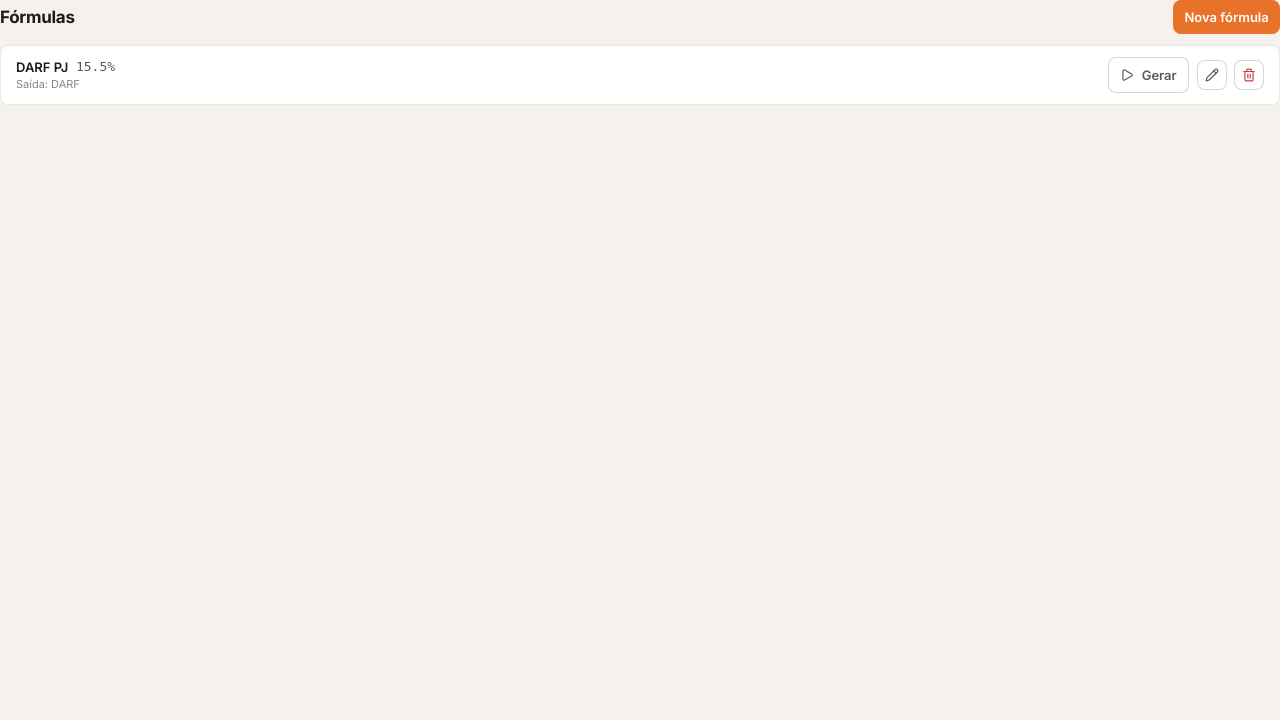
Test: FinanceFormulaSection › opens and closes the generation preview modal
This screenshot has width=1280, height=720.
Click the button "Gerar": (1148, 75) [1108, 57, 1189, 93]
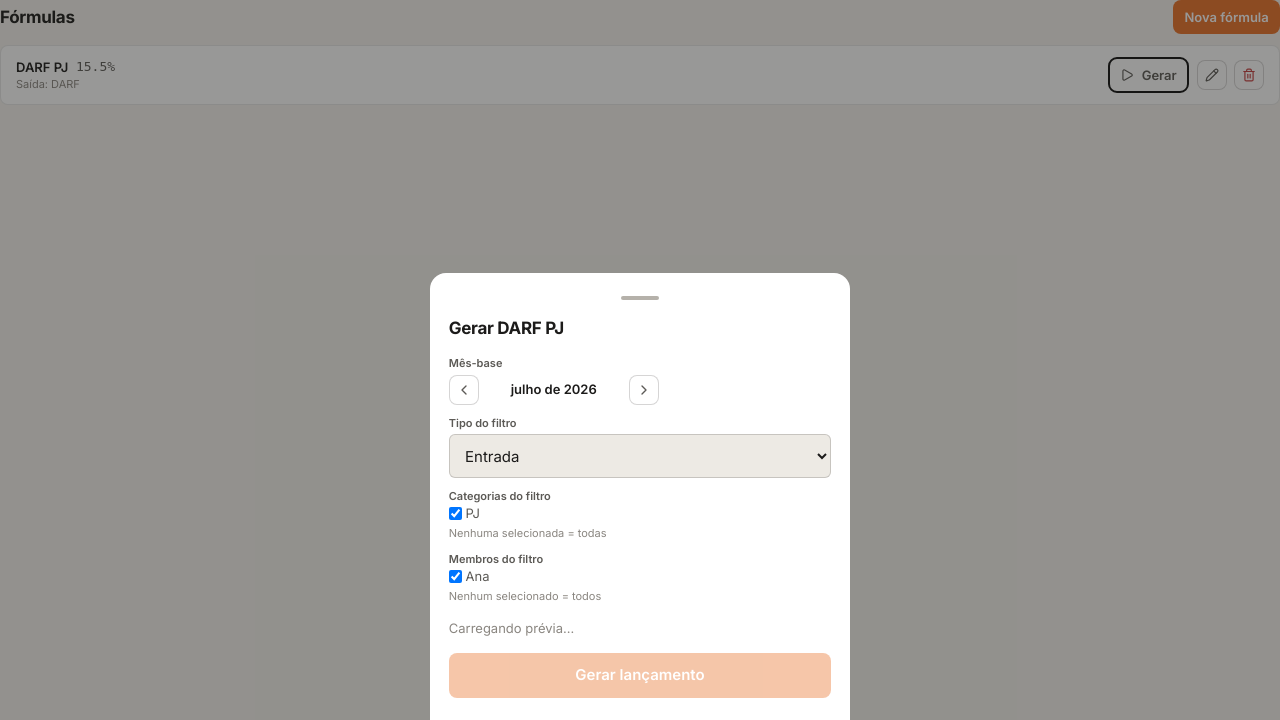
Click the element that starts with "Gerar DARF PJ": (77, 360) [0, 0, 1279, 719]
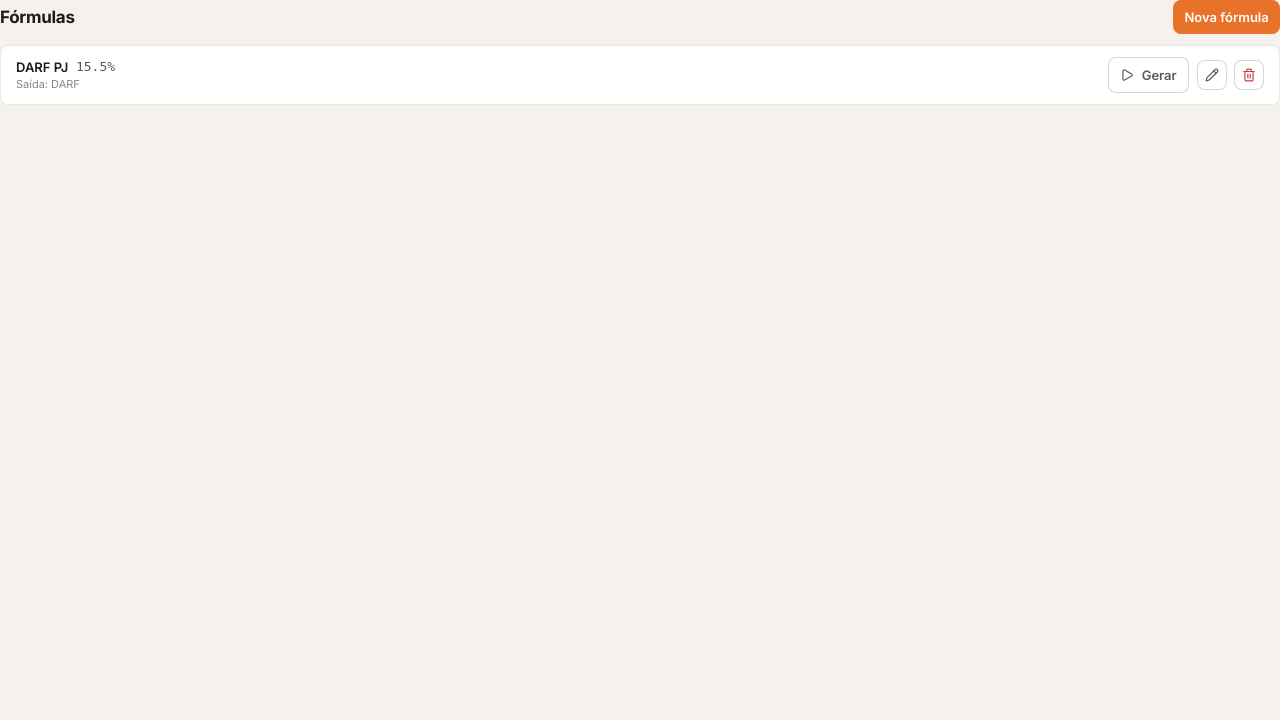
Result: the dialog is gone
